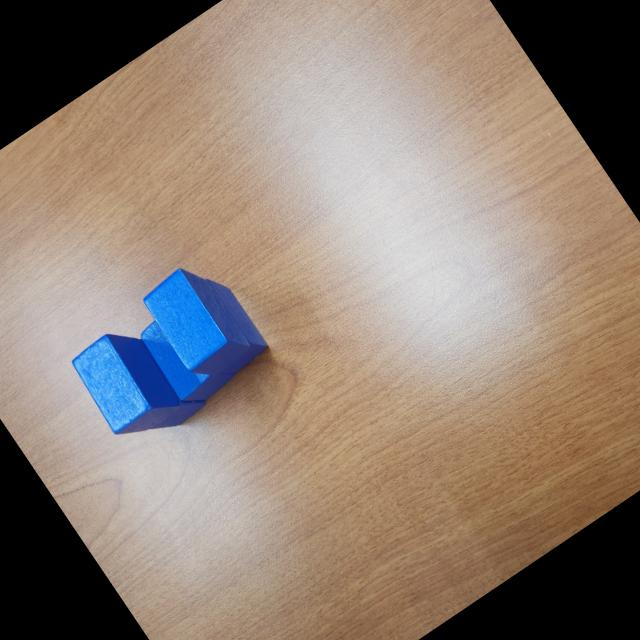blue: (65, 317, 190, 451), (138, 258, 255, 386), (168, 268, 274, 386), (108, 328, 212, 440), (133, 300, 233, 413)
